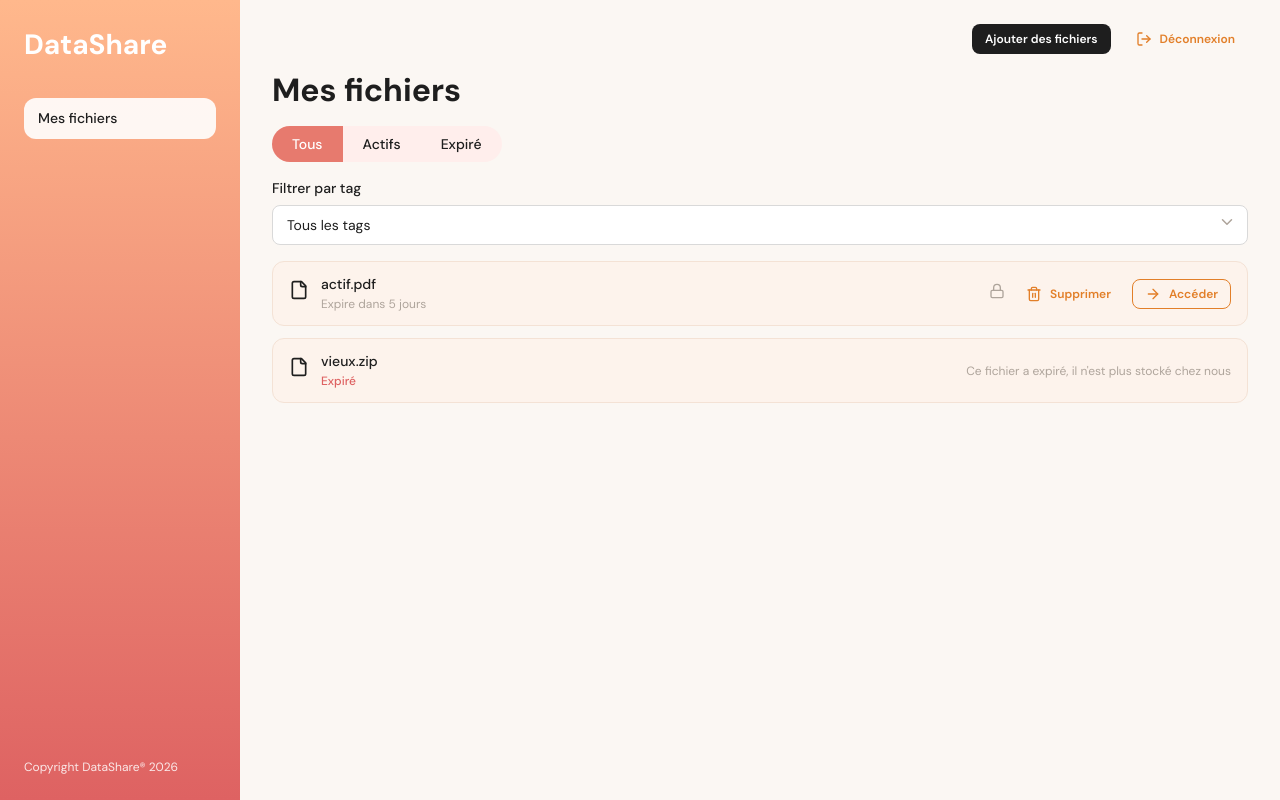
Test: SpacePage › filtre sur les fichiers expirés (US10)
Step 1. Click the tab "Expiré" → (461, 144), box [421, 126, 502, 162]
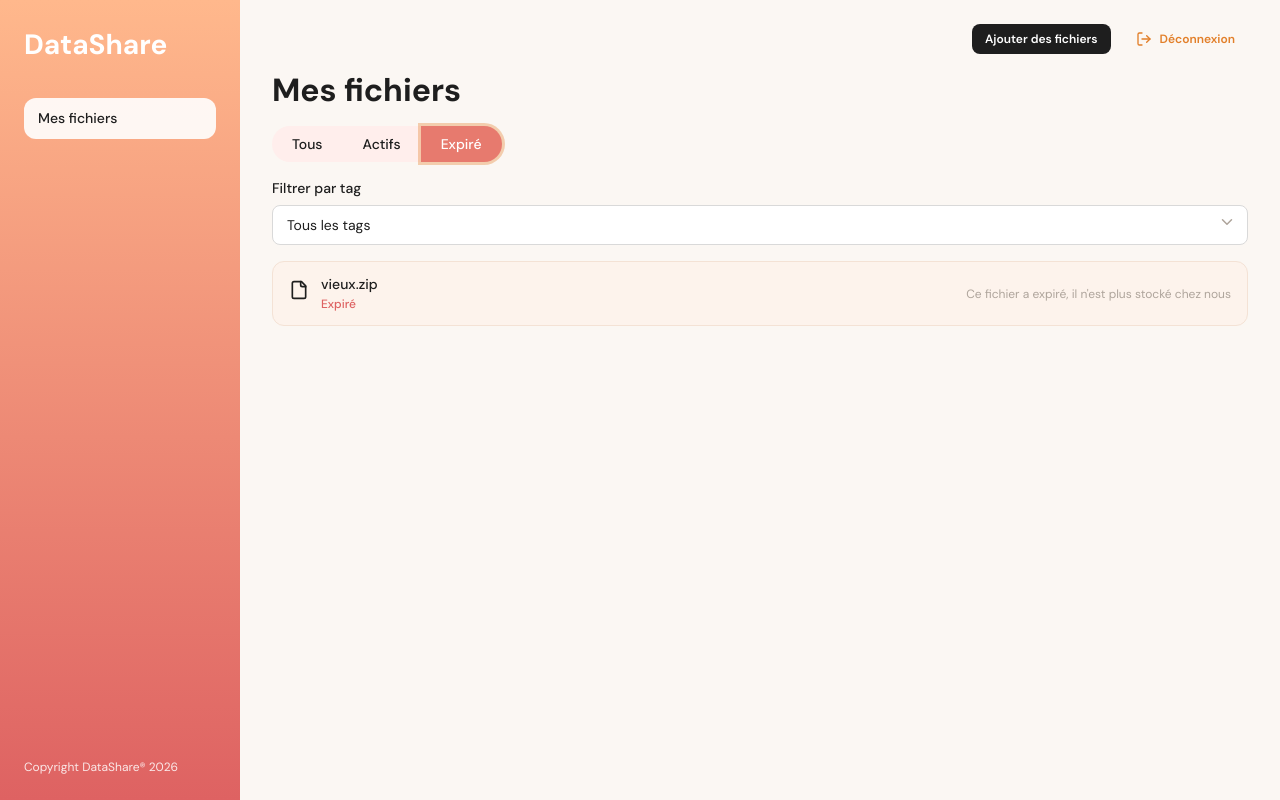
Expected: the text "vieux.zip" is shown, [321, 275, 378, 293]
Expected: the text "actif.pdf" is gone
